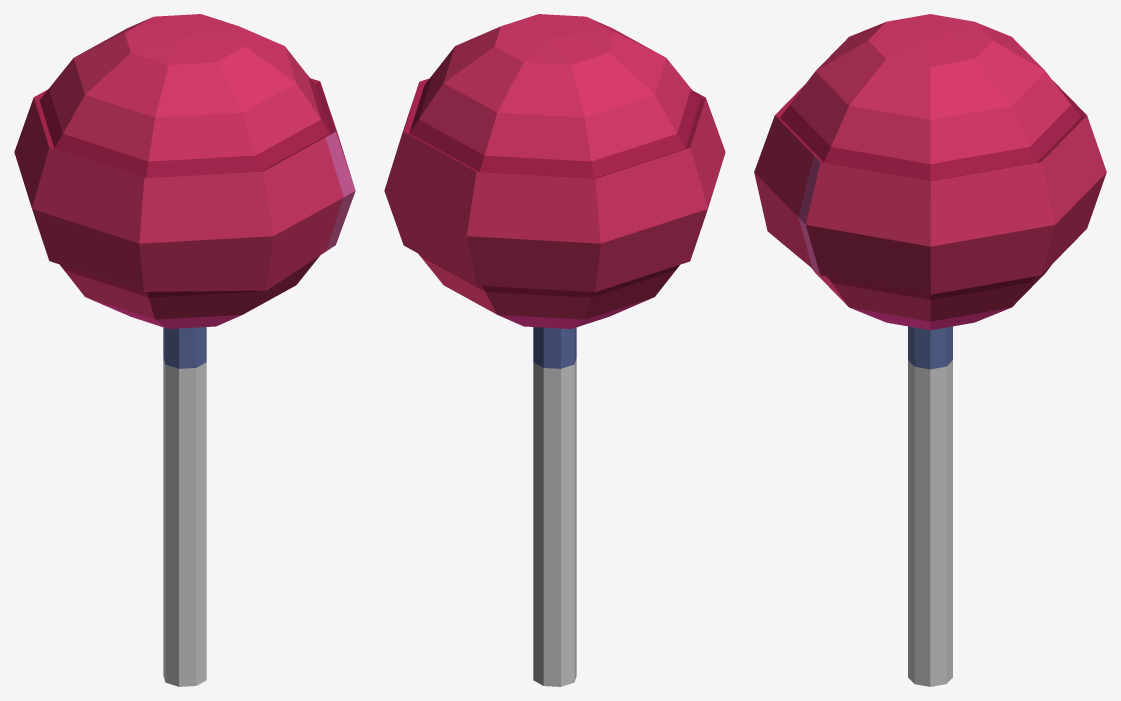
File: LolipopPowerUp.fbx
3 views of the same model, side by side, from view 1: azimuth 30°, elevation 25°; view 2: azimuth 150°, elevation 25°; view 3: azimuth 270°, elevation 25° (orthographic).
Visible parts, largest first — view 1: PirulitoPowerUp; view 2: PirulitoPowerUp; view 3: PirulitoPowerUp.
Part boxes in pixels (left/top/right/bottom): PirulitoPowerUp: left=14, top=14, right=355, bottom=686; PirulitoPowerUp: left=384, top=14, right=725, bottom=686; PirulitoPowerUp: left=754, top=14, right=1106, bottom=686.
Size of the model in its own units: 15 by 30 by 15.
